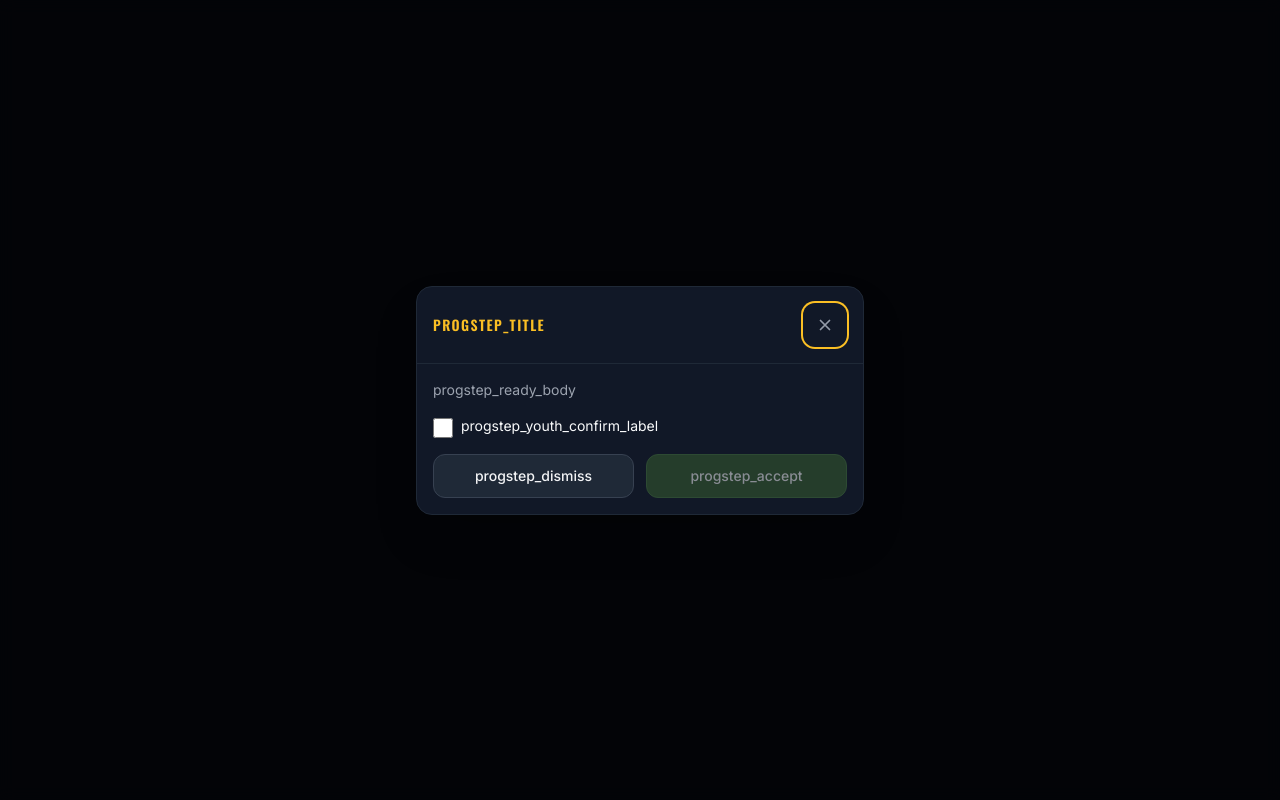
it: ProgressCard › unchecking the youth confirmation disables accept again
This screenshot has width=1280, height=800.
Step 1. Click the checkbox with test id "progression-youth-confirm" → (443, 428), box [433, 418, 453, 438]
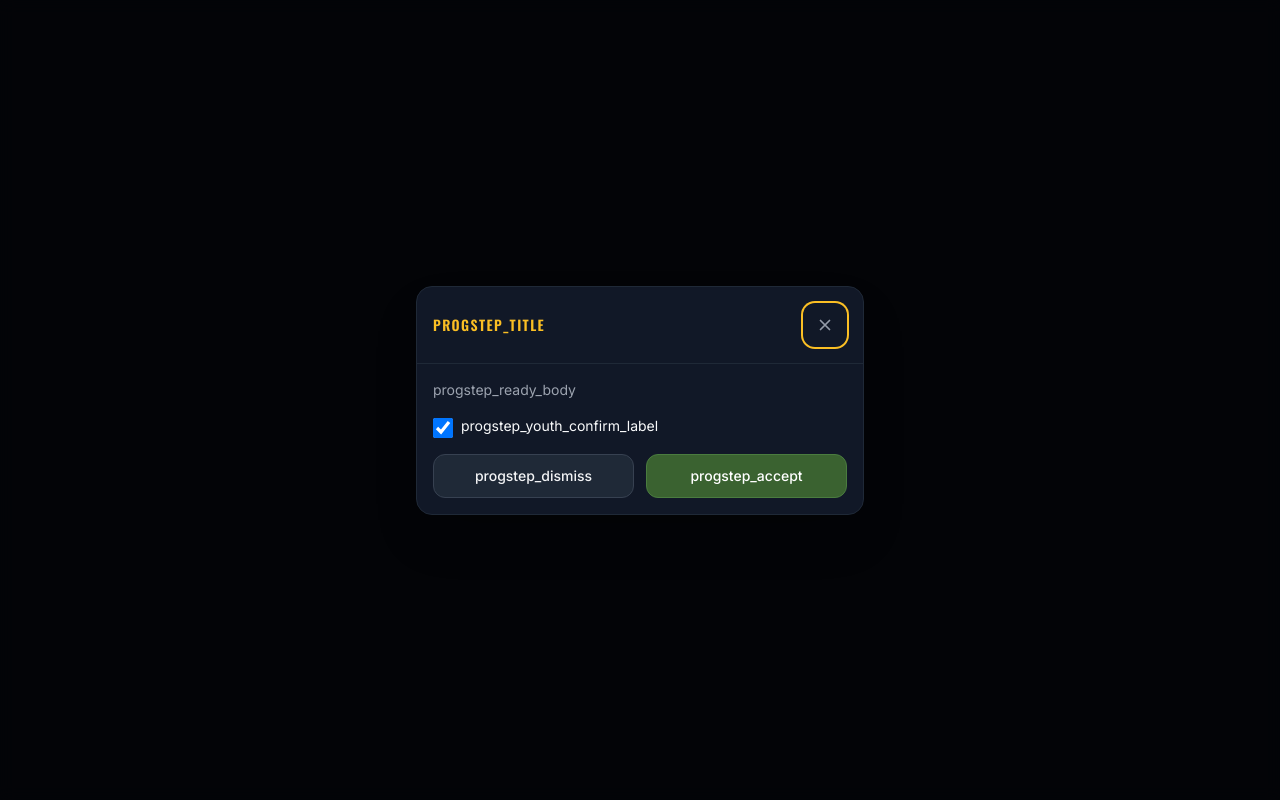
Result: the button with test id "progression-accept" is enabled at [646, 454, 847, 498]
Step 2. Click the checkbox with test id "progression-youth-confirm" → (443, 428), box [433, 418, 453, 438]
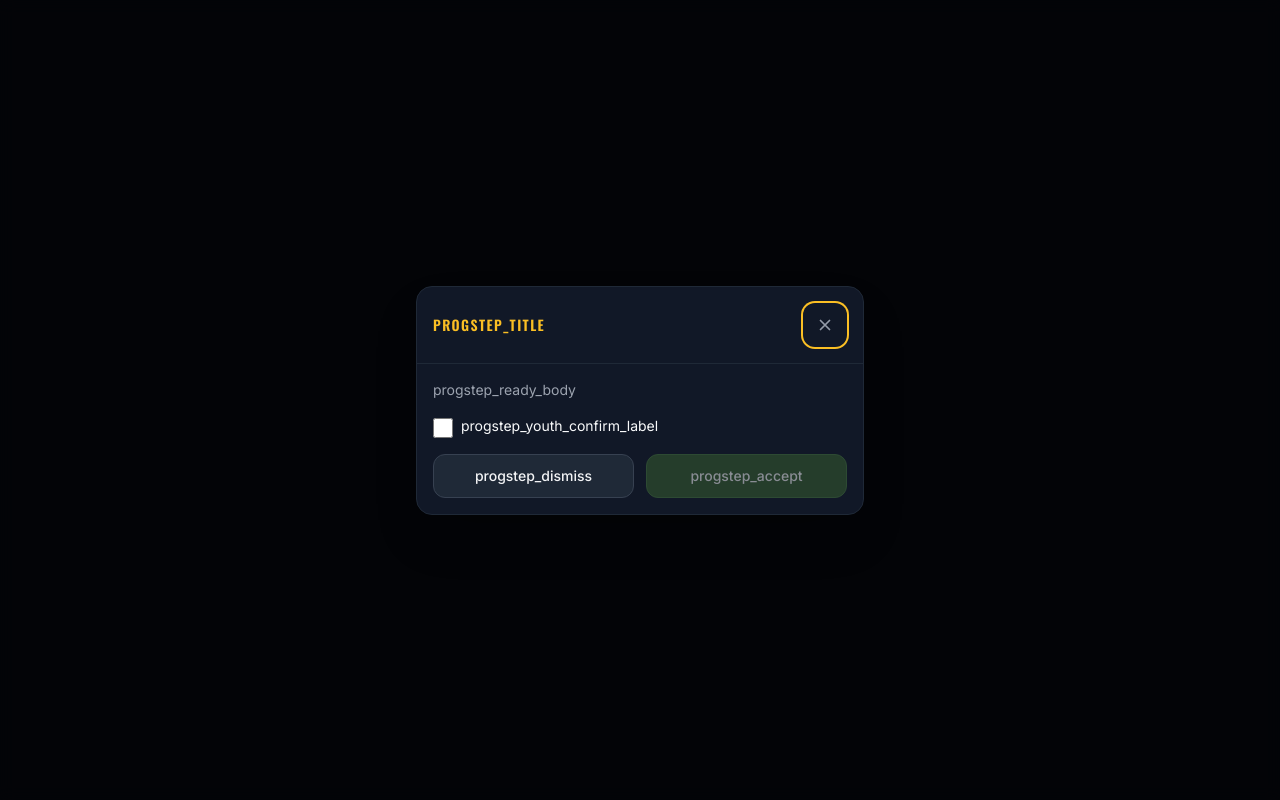
Result: the button with test id "progression-accept" is disabled at [646, 454, 847, 498]
